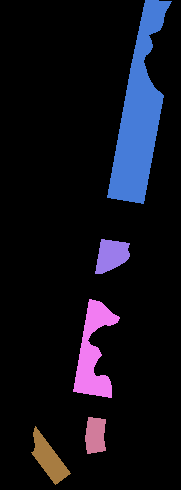parkingspot: (107, 0, 171, 203), (73, 299, 119, 397), (31, 426, 70, 484), (95, 239, 129, 273), (85, 417, 105, 453)
